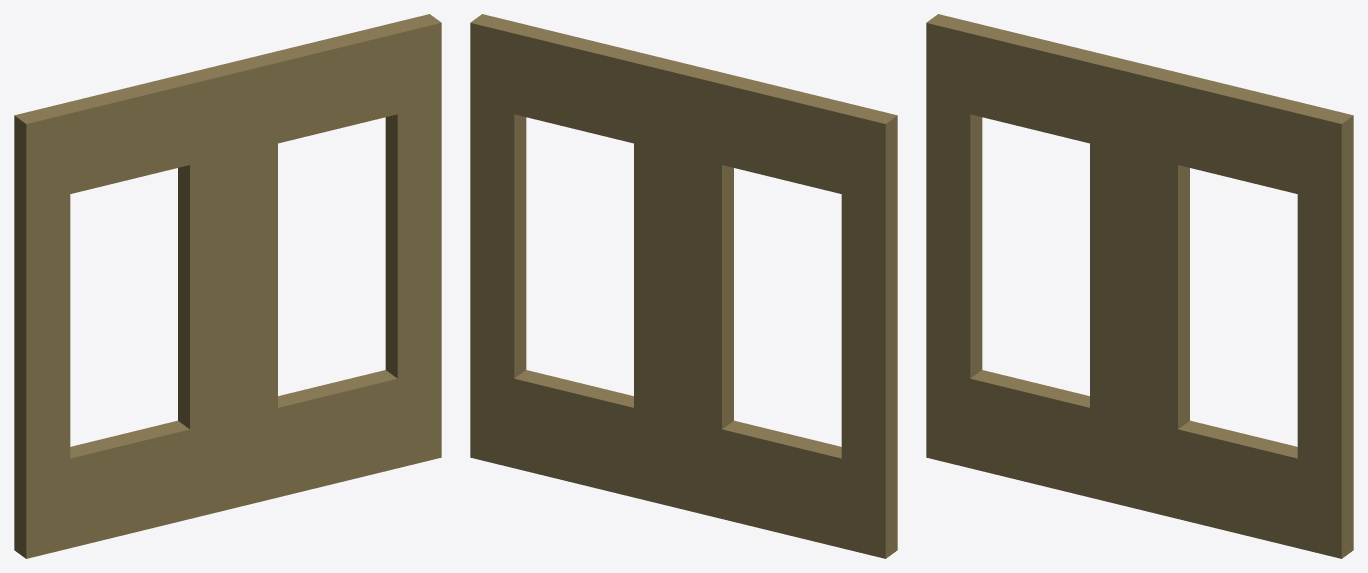
Rendered from MOD_Double_Vertical_Window.fbx.
3 views of the same model, side by side, from view 1: azimuth 30°, elevation 25°; view 2: azimuth 150°, elevation 25°; view 3: azimuth 330°, elevation 25° (orthographic).
Visible parts, largest first — view 1: Wall Window Double; view 2: Wall Window Double; view 3: Wall Window Double.
Boxes of the visible parts, x1,y1,x2,y2 form: Wall Window Double: (14,14,441,558); Wall Window Double: (470,14,897,558); Wall Window Double: (926,14,1353,558).
Bounding box in the file's own units: 200 × 200 × 10.
